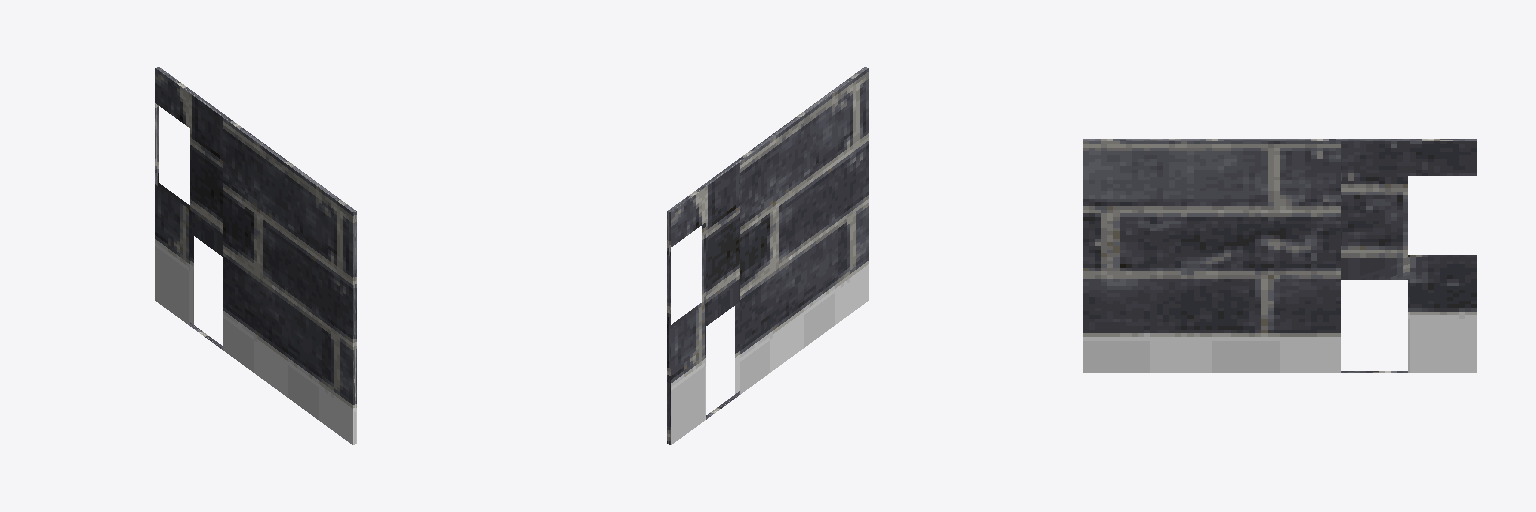
3 renders of one model, left to right at view 1: azimuth 30°, elevation 25°; view 2: azimuth 150°, elevation 25°; view 3: azimuth 270°, elevation 25°, orthographic.
Parts seen in each view (by area): view 1: pCube7; view 2: pCube7; view 3: pCube7.
Part boxes in pixels (x1,y1,x2,y2): pCube7: (155,67,356,444); pCube7: (667,67,868,444); pCube7: (1083,139,1476,372).
Size of the model in its own units: 0.1975 by 10.34 by 15.89.
Materials: 1 (1 with a texture image).